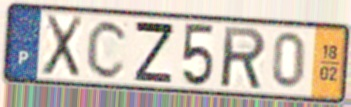0: (269, 30, 310, 92)
5: (179, 21, 218, 89)
C: (84, 18, 131, 81)
R: (221, 25, 268, 92)
X: (39, 12, 86, 80)
Z: (133, 19, 176, 86)
